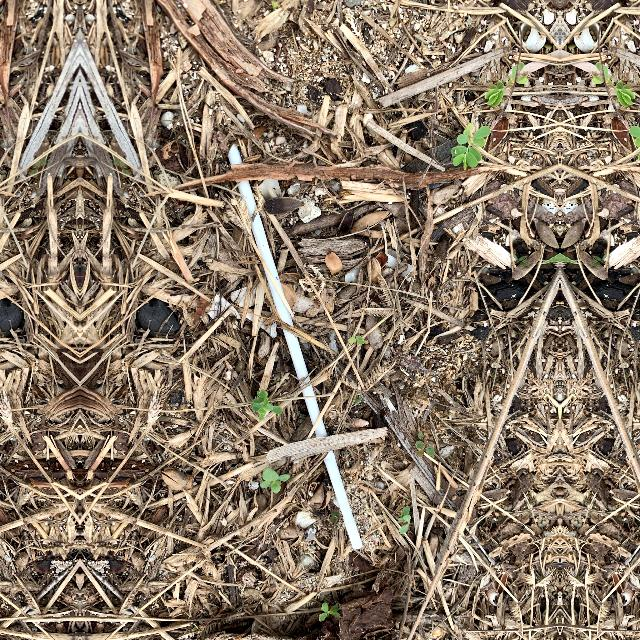Plastic: (220, 138, 376, 564)
